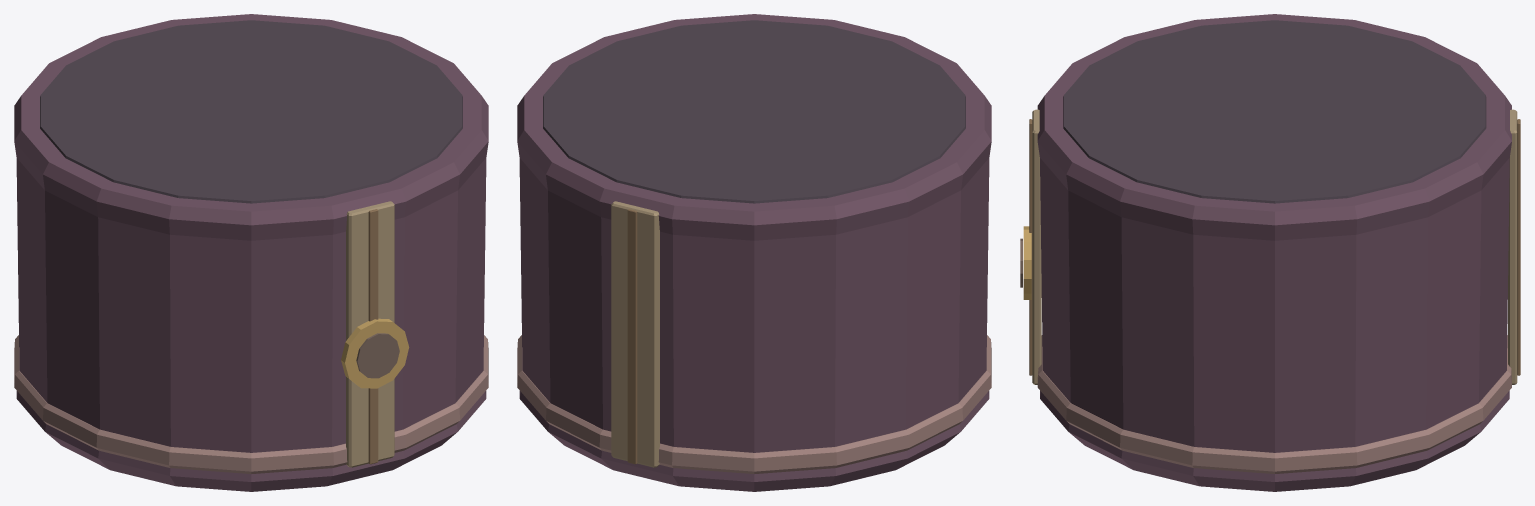
The model's file is hat_box.glb.
3 views of the same model, side by side, from view 1: azimuth 30°, elevation 25°; view 2: azimuth 150°, elevation 25°; view 3: azimuth 270°, elevation 25° (orthographic).
Visible parts, largest first — view 1: hat_box; view 2: hat_box; view 3: hat_box.
Part boxes in pixels (<box>): hat_box: <box>14,14,488,491</box>; hat_box: <box>517,14,991,491</box>; hat_box: <box>1020,14,1520,491</box>.
Bounding box in the file's own units: 0.61 × 0.403 × 0.633.
